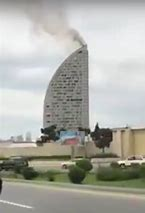smoke: (15, 1, 90, 45)
